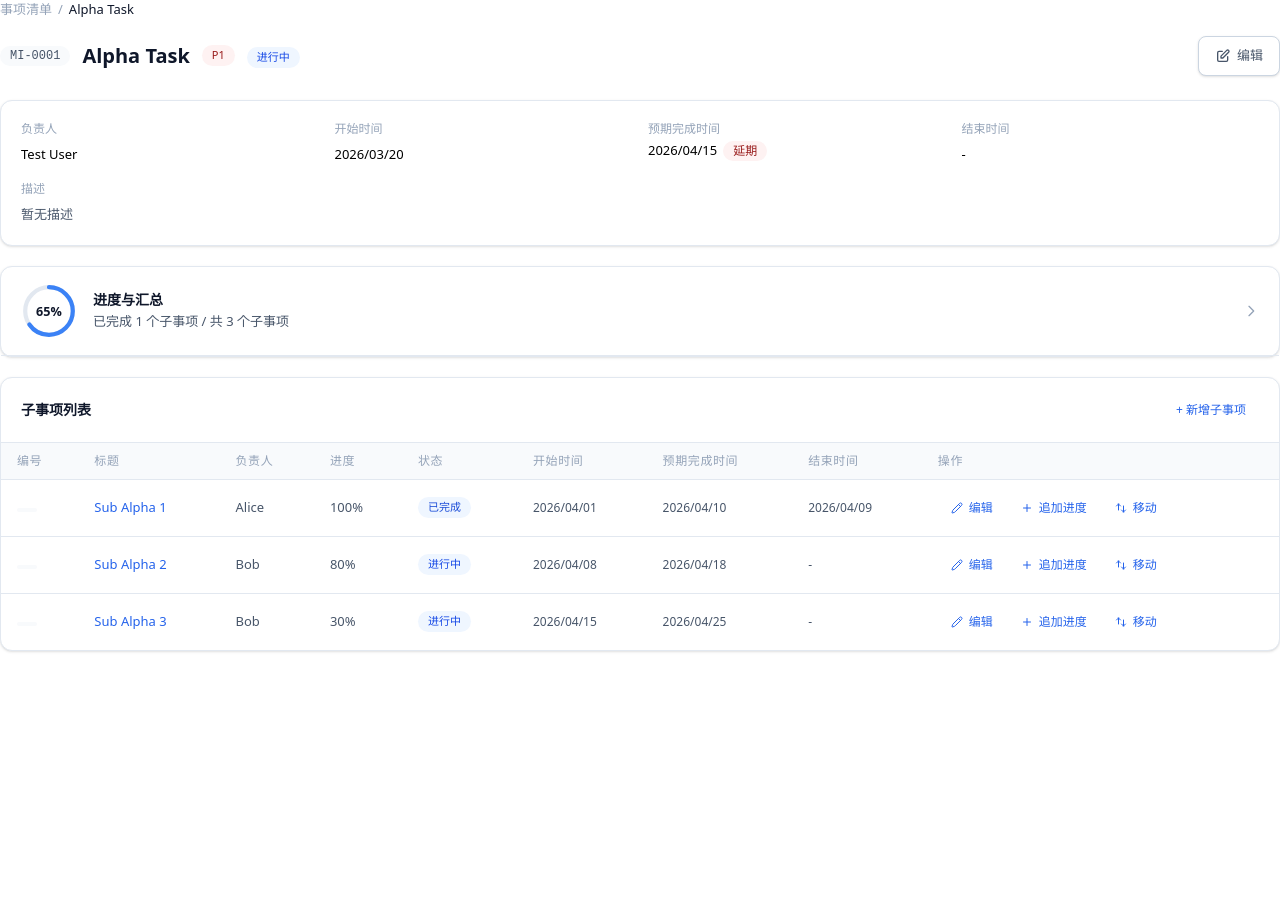
Test case: MainItemDetailPage › populates edit form with item data when data loads
Expected: the heading "Alpha Task" is shown, [82,42,190,70]
Note: Open edit dialog
Step 1. Click the button "编辑" in the row of "P1" → point(1239, 56), box [1198,36,1279,76]
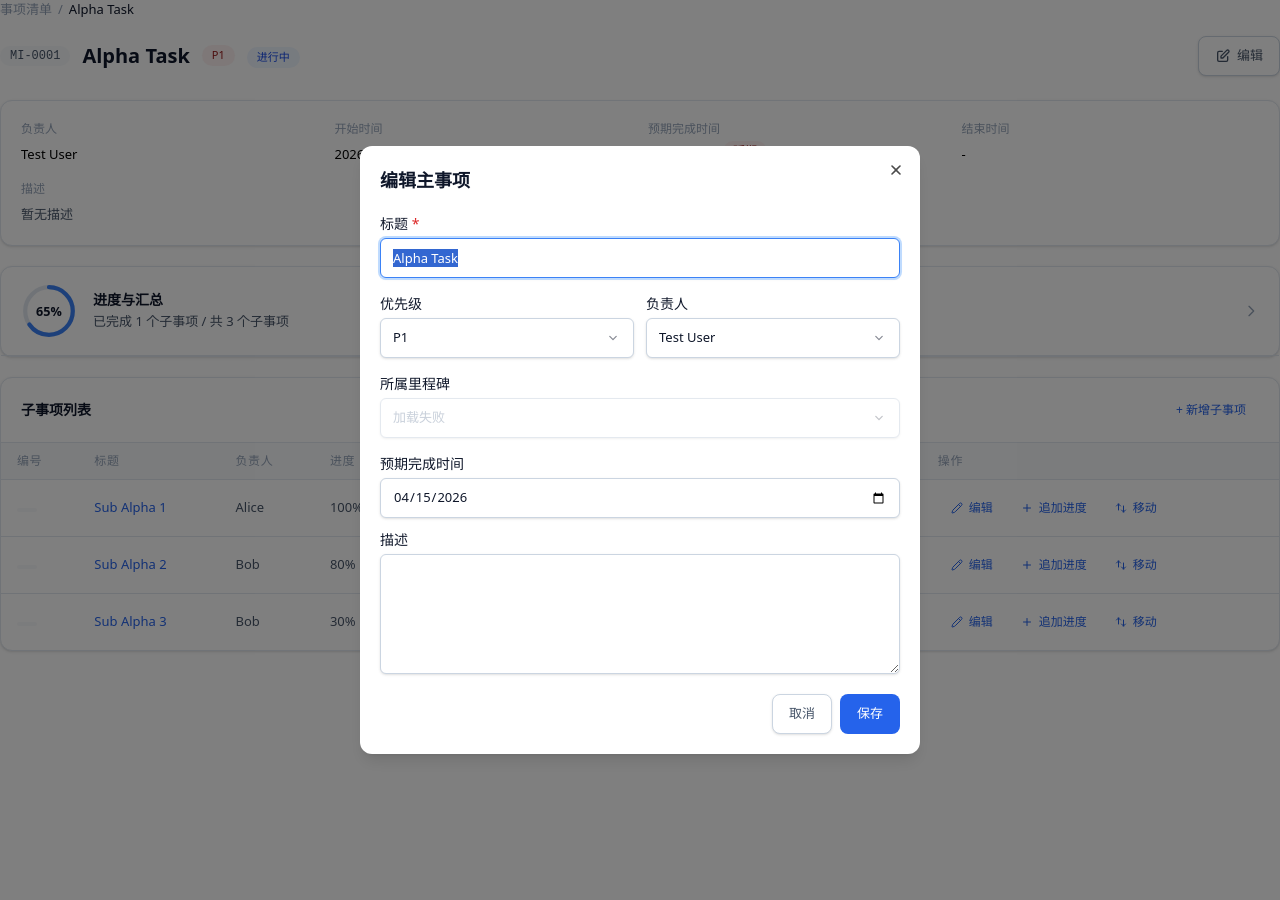
Expected: the field showing "Alpha Task" is shown, [380,238,900,278]
